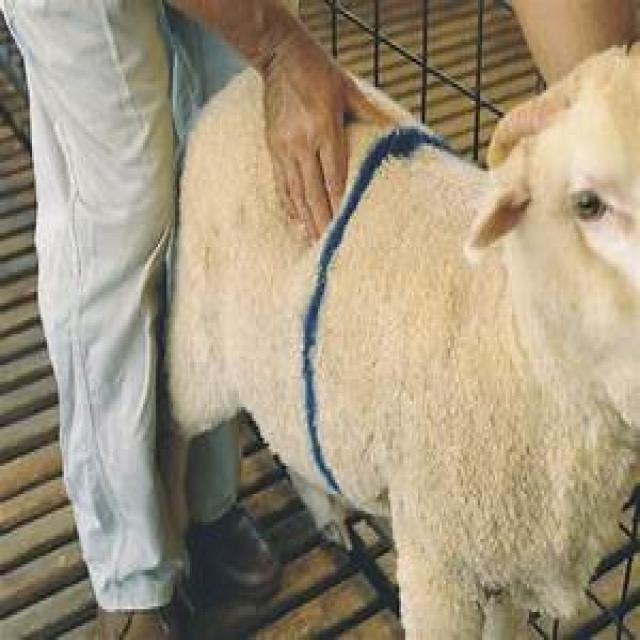goat: (166, 42, 640, 640)
